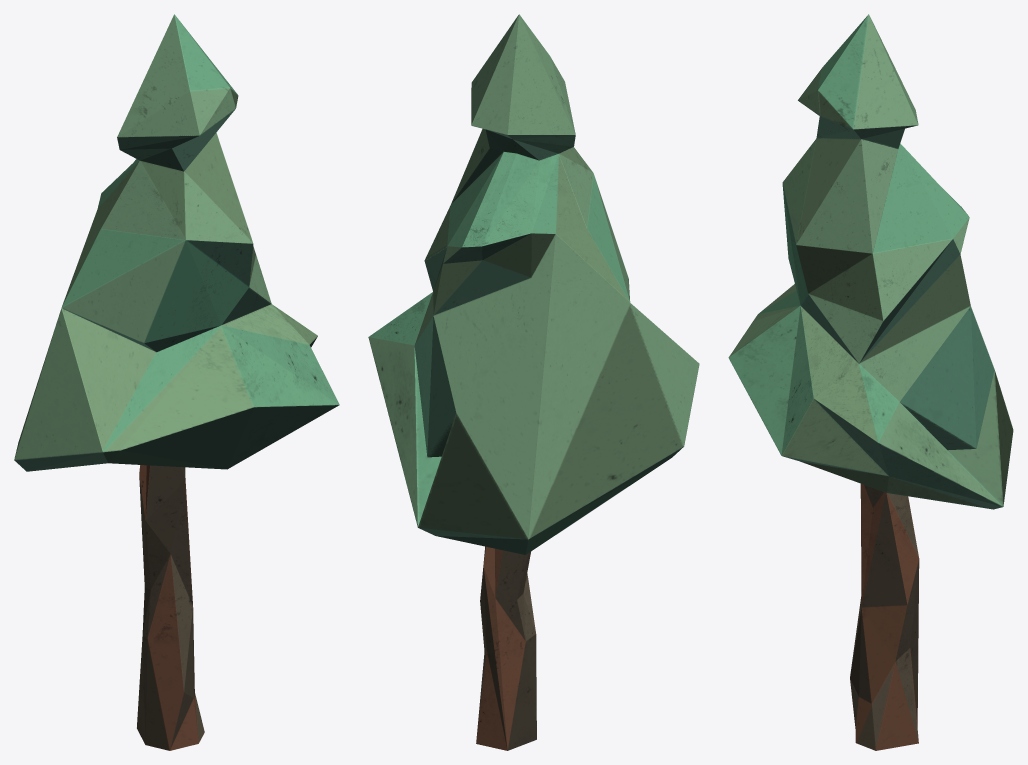
File: Tree_6.obj
3 renders of one model, left to right at view 1: azimuth 30°, elevation 25°; view 2: azimuth 150°, elevation 25°; view 3: azimuth 270°, elevation 25°, orthographic.
Visible parts, largest first — view 1: Object.1; view 2: Object.1; view 3: Object.1.
Part boxes in pixels (x1,y1,x2,y2): Object.1: (14, 14, 339, 750); Object.1: (368, 14, 699, 750); Object.1: (728, 14, 1013, 750).
Size of the model in its own units: 140 by 312 by 112.
1 material, 1 textured.
